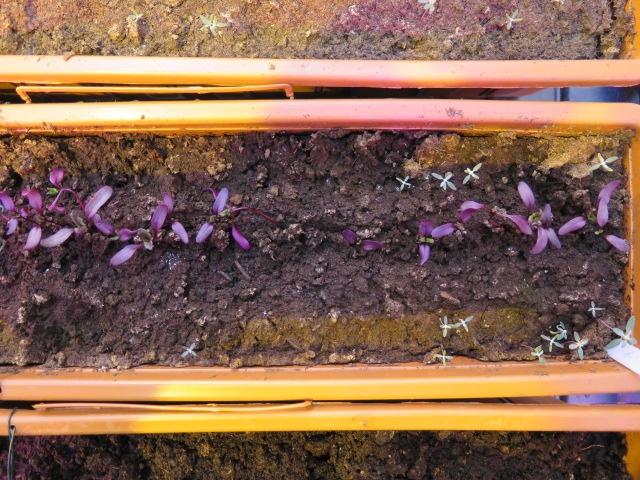crop: (40, 183, 113, 270), (109, 202, 168, 279), (559, 179, 621, 240), (231, 184, 282, 257), (514, 177, 559, 257), (462, 198, 529, 238), (195, 185, 229, 252), (159, 188, 191, 253), (593, 197, 623, 258), (23, 177, 44, 260), (434, 211, 480, 245), (337, 226, 387, 254), (416, 216, 438, 267), (46, 161, 67, 211), (3, 179, 22, 231)
weed: (601, 313, 638, 352), (583, 147, 619, 174), (567, 328, 591, 361), (499, 5, 525, 32), (429, 169, 457, 192), (431, 345, 454, 368), (585, 296, 606, 321), (461, 160, 482, 185), (394, 172, 413, 194), (178, 341, 198, 360)
